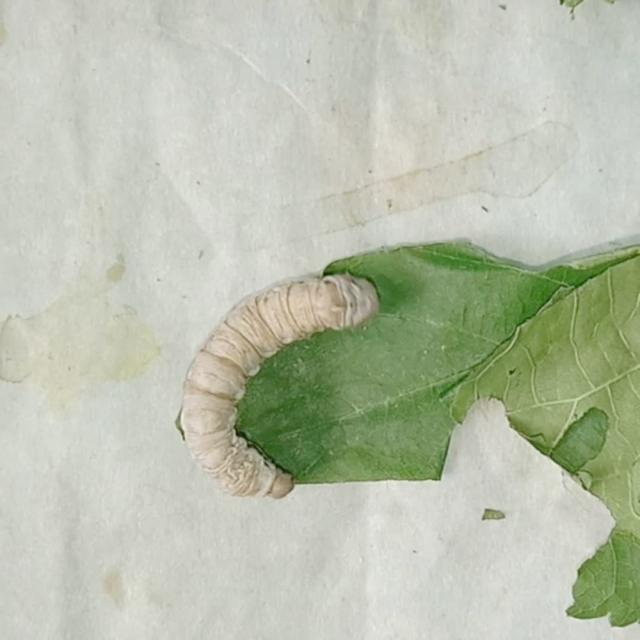Grasserie: (173, 252, 389, 522)
